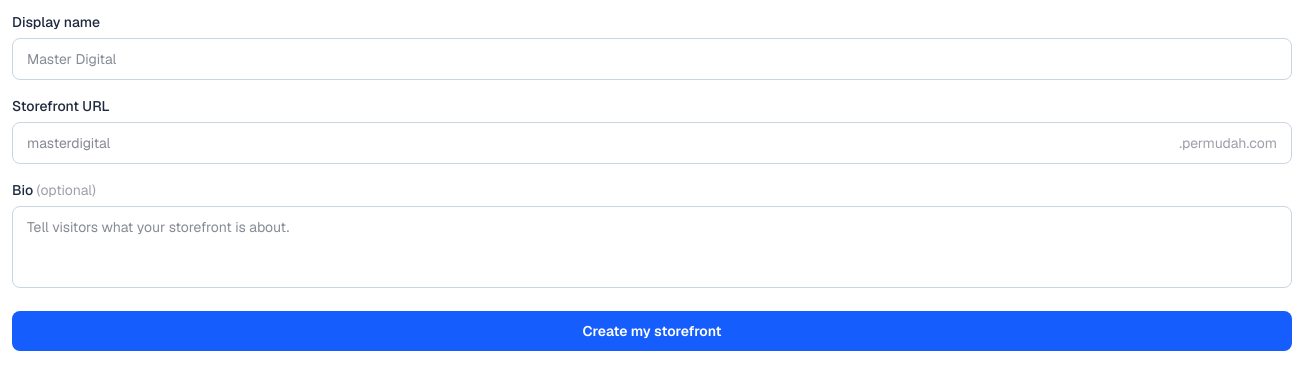
Test case: creator onboarding slug input › normalization lowercases and removes invalid characters
Type "  Master-Digital!" into the field with id "slug".
click(596, 143); type("  Master-Digital!")  # box [13,123,1179,163]
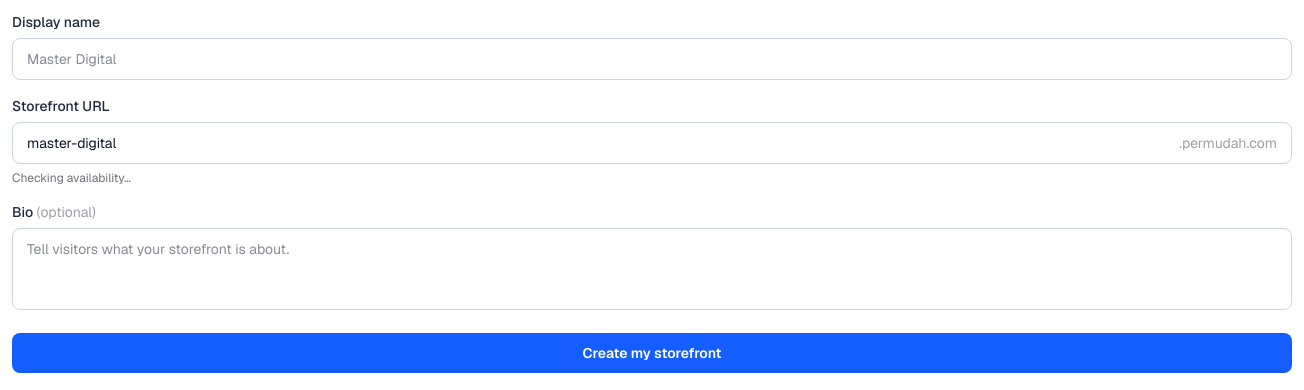
Check: the field with id "slug" holds "master-digital", box [13,123,1179,163]
